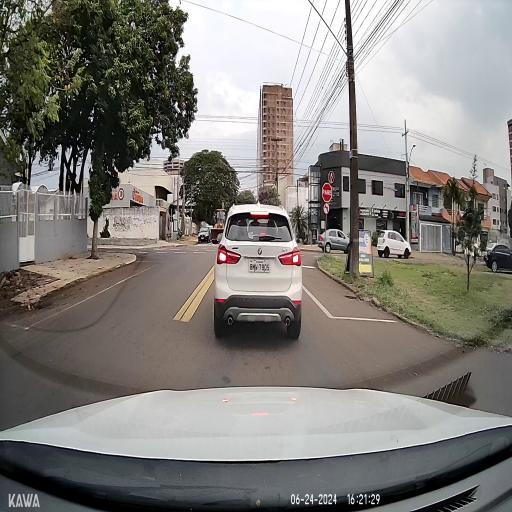R-1: (322, 182, 332, 202)
R-24a: (323, 203, 329, 214)
